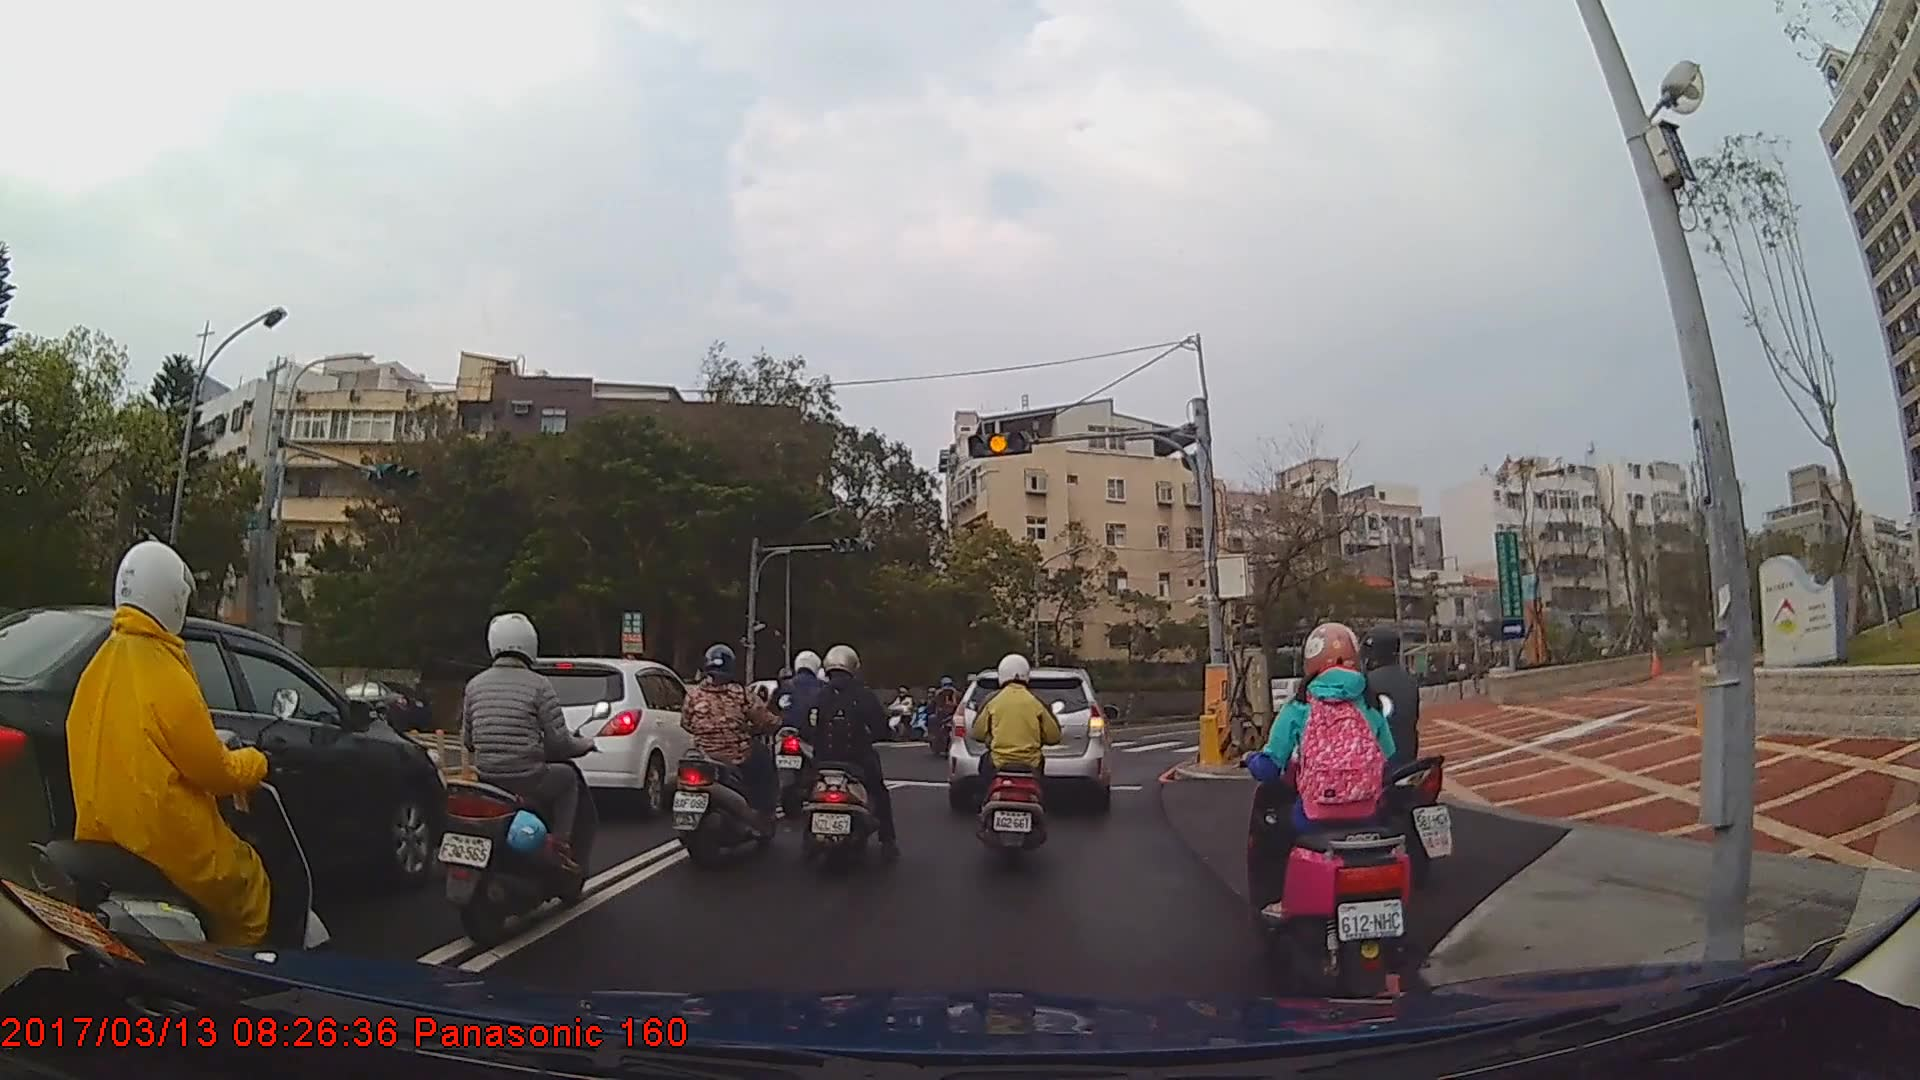rider: (30, 539, 337, 1012), (430, 609, 607, 953), (1243, 626, 1415, 980), (670, 642, 789, 875), (791, 640, 901, 876), (973, 651, 1067, 863), (766, 650, 836, 818), (938, 671, 997, 767), (918, 673, 972, 758)
vehicle: (0, 602, 451, 949), (488, 658, 725, 820), (943, 667, 1113, 814), (326, 680, 435, 732)
